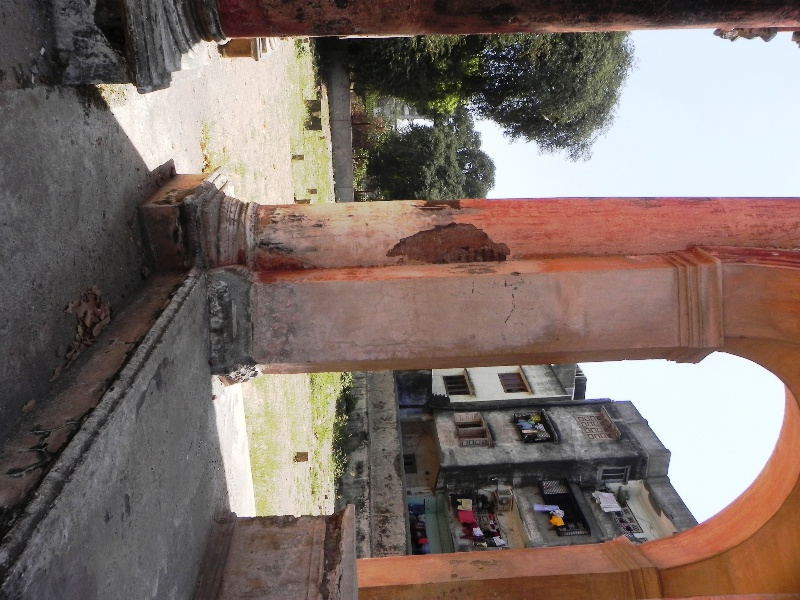Spalling: (388, 217, 512, 268)
